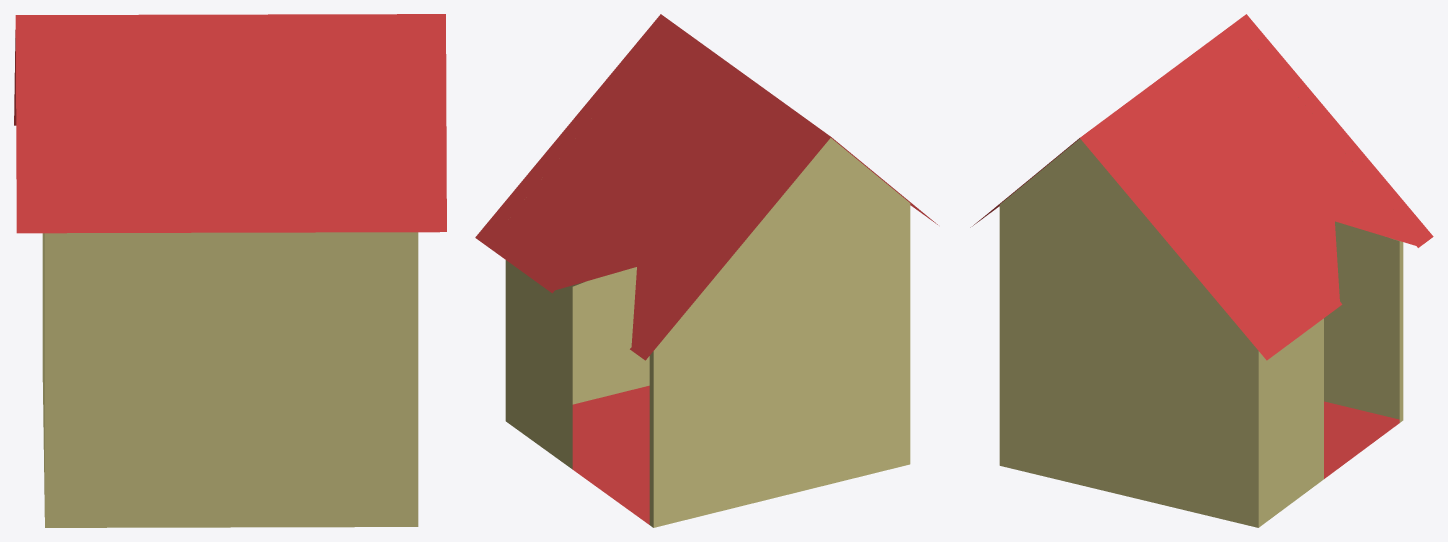
The picture shows the model from 3 angles, left to right: view 1: azimuth 30°, elevation 25°; view 2: azimuth 150°, elevation 25°; view 3: azimuth 270°, elevation 25°; orthographic projection. The views are drawn at different scales.
Size of the model in its own units: 20.74 by 20.82 by 17.71.
